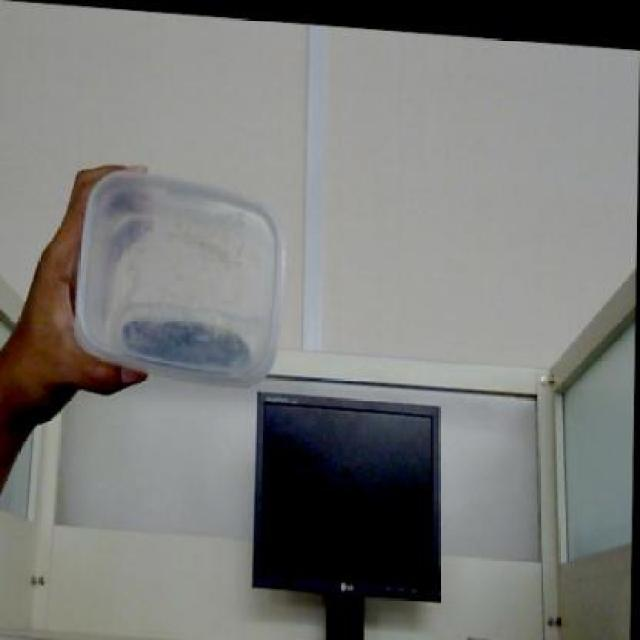Plastic: (68, 164, 292, 407)
